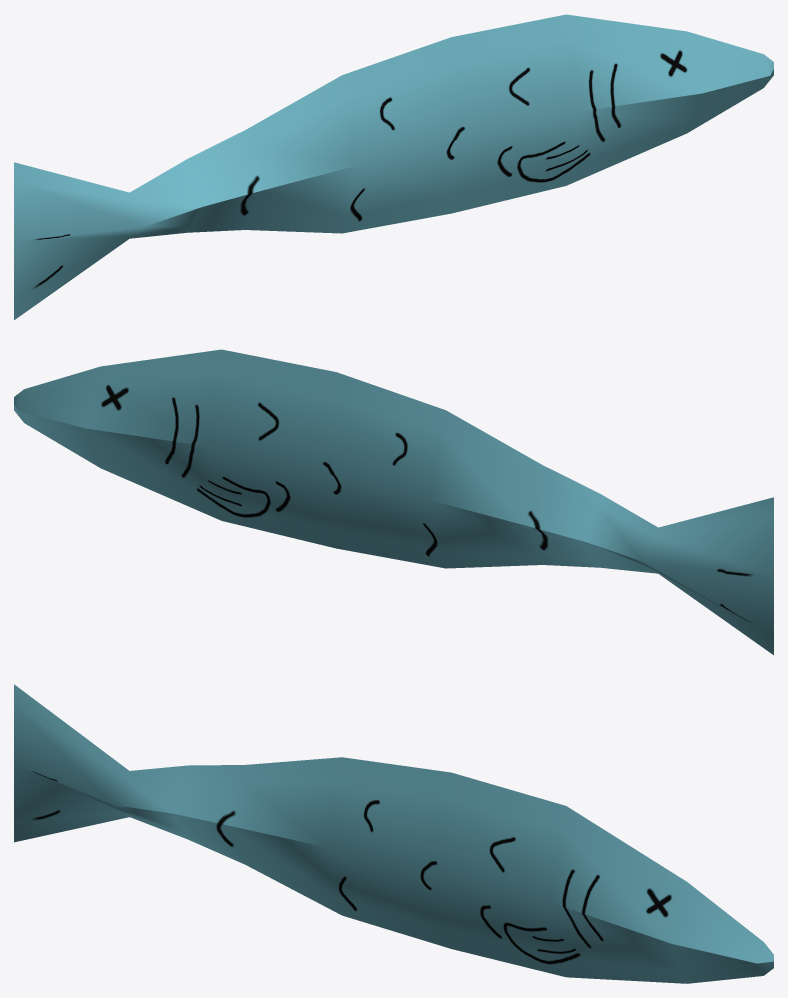
Rendered from Dead Fish.fbx.
The picture shows the model from 3 angles, top to bottom: view 1: azimuth 30°, elevation 25°; view 2: azimuth 150°, elevation 25°; view 3: azimuth 330°, elevation 25°; orthographic projection.
Visible parts, largest first — view 1: Sild; view 2: Sild; view 3: Sild.
Boxes of the visible parts, x1,y1,x2,y2 form: Sild: (14, 14, 773, 319); Sild: (14, 349, 773, 654); Sild: (14, 684, 773, 983).
Bounding box in the file's own units: 279 × 62.12 × 19.29.
1 material, 1 textured.
